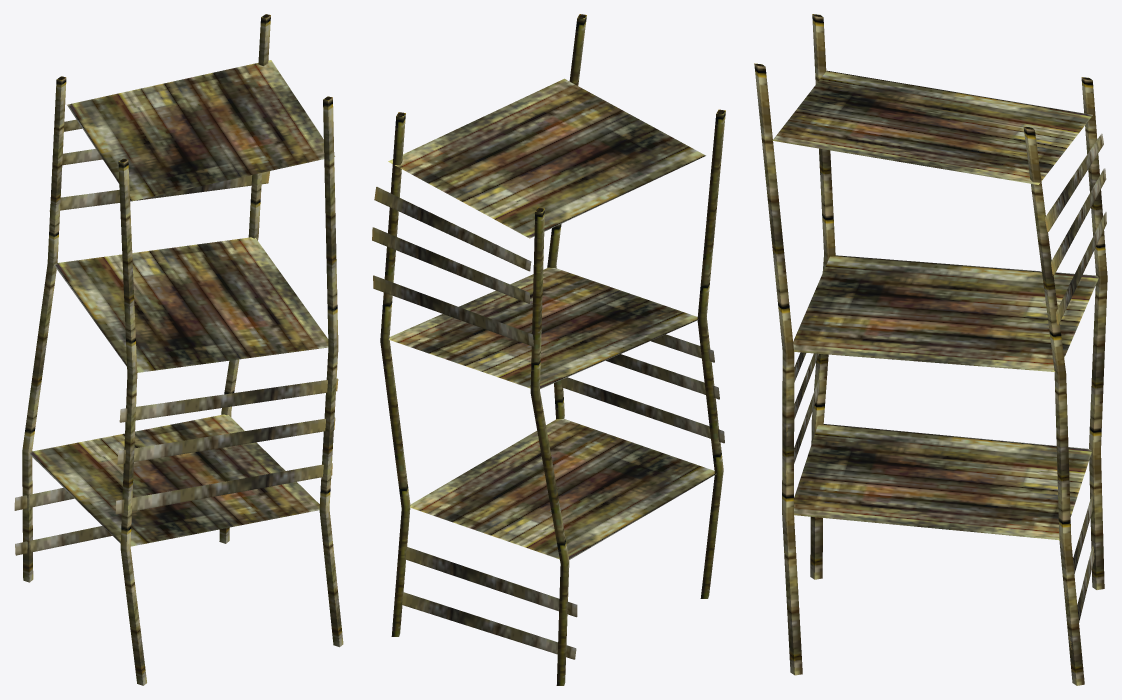
The model's file is Environment - Prop - Bamboo Pole Tower - Damaged - PMbampltr_d.glb.
3 renders of one model, left to right at view 1: azimuth 30°, elevation 25°; view 2: azimuth 150°, elevation 25°; view 3: azimuth 270°, elevation 25°, orthographic. The views are drawn at different scales.
Visible parts, largest first — view 1: PMBAMPLTR_D; view 2: PMBAMPLTR_D; view 3: PMBAMPLTR_D.
Part boxes in pixels (x1,y1,x2,y2): PMBAMPLTR_D: (14,14,343,685); PMBAMPLTR_D: (372,14,725,685); PMBAMPLTR_D: (754,14,1107,685).
Size of the model in its own units: 17.17 by 34.59 by 18.62.
Materials: 1 (1 with a texture image).
